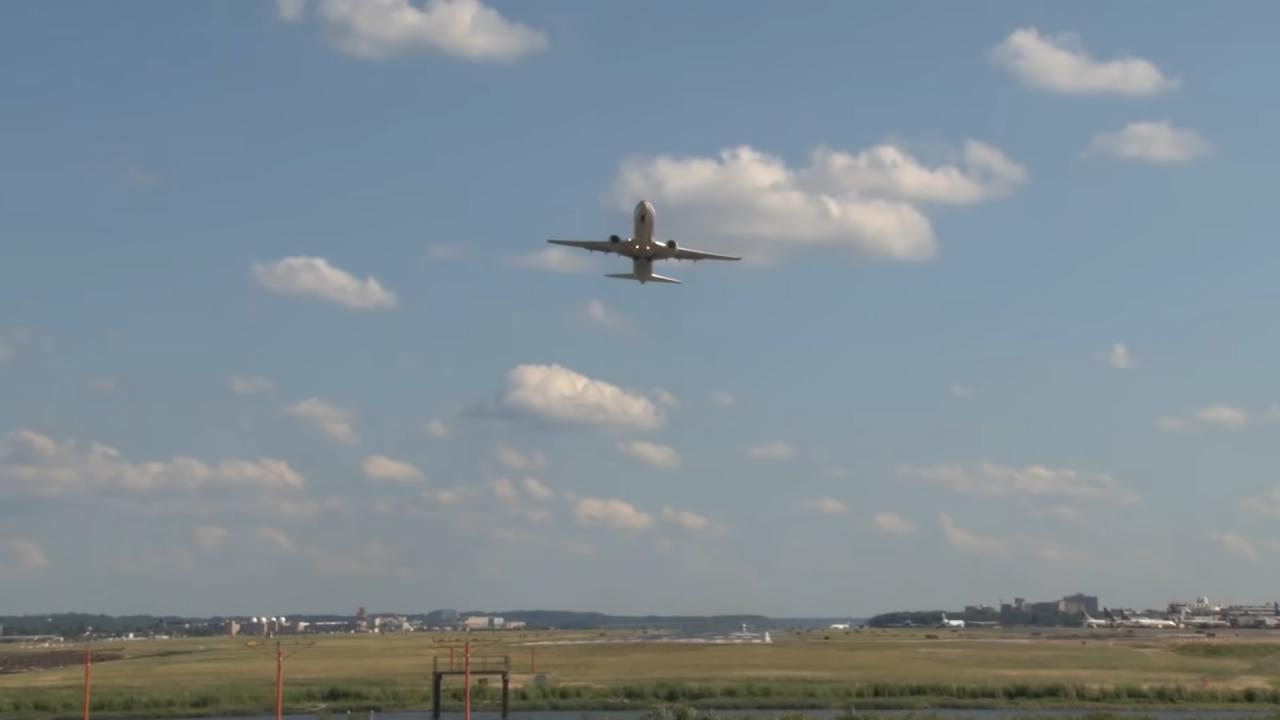Airplane: (540, 186, 747, 301)
